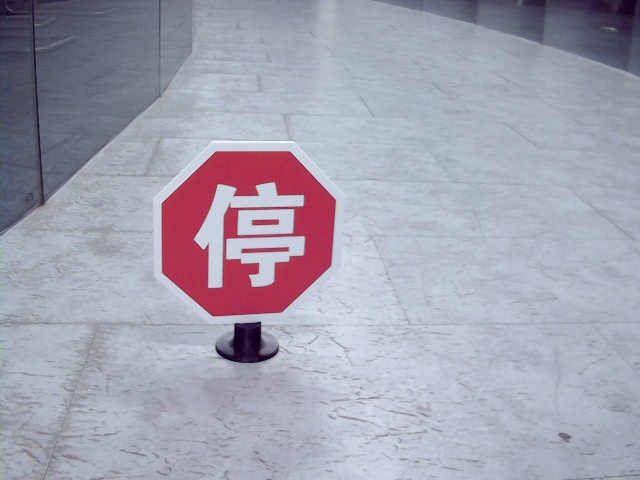stop: (191, 181, 306, 288)
